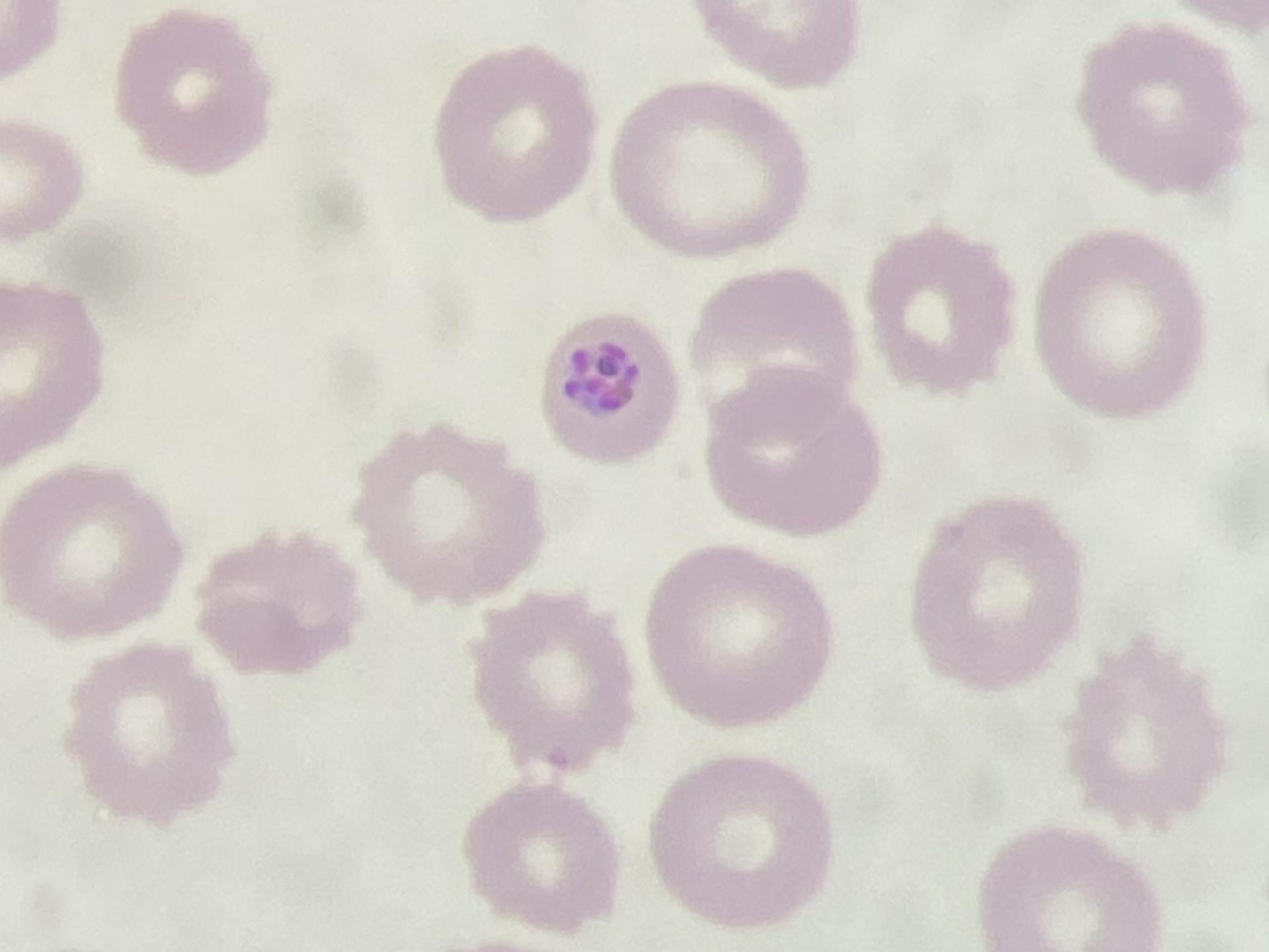Infected: (542, 314, 677, 464)
Uninfected: (354, 423, 548, 604), (645, 547, 831, 727), (613, 83, 805, 254), (914, 497, 1083, 688), (3, 464, 184, 640), (651, 756, 832, 928), (61, 645, 231, 826), (1036, 231, 1203, 414), (1063, 637, 1221, 826), (701, 368, 879, 534), (470, 592, 634, 771), (1080, 22, 1246, 193), (435, 48, 598, 221), (118, 12, 272, 174), (870, 223, 1013, 395), (197, 531, 361, 677), (464, 783, 622, 934), (692, 266, 858, 408)
